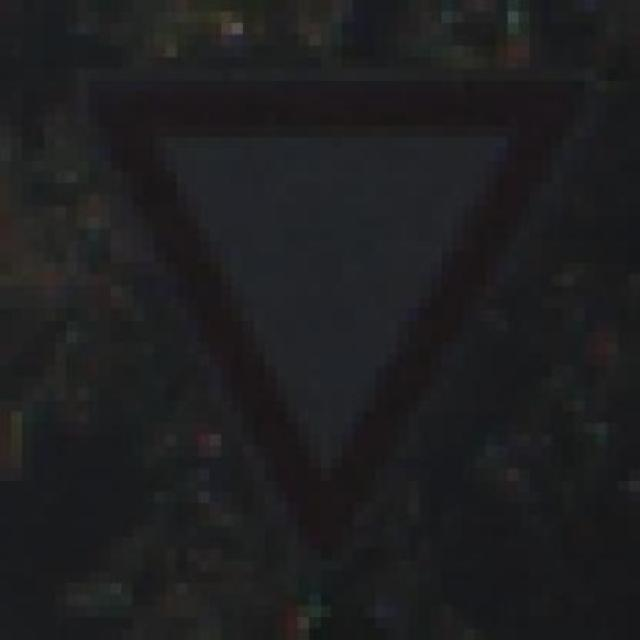Give Way: (66, 46, 619, 560)
